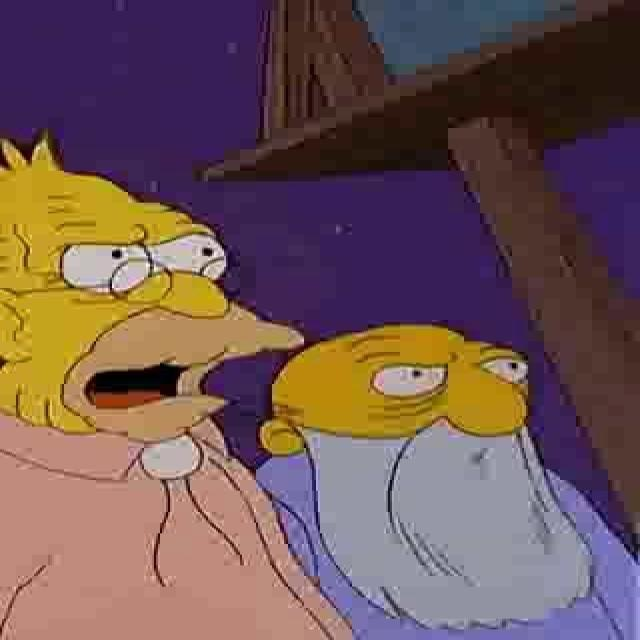Abraham Grampa Simpson: (0, 136, 308, 445)
